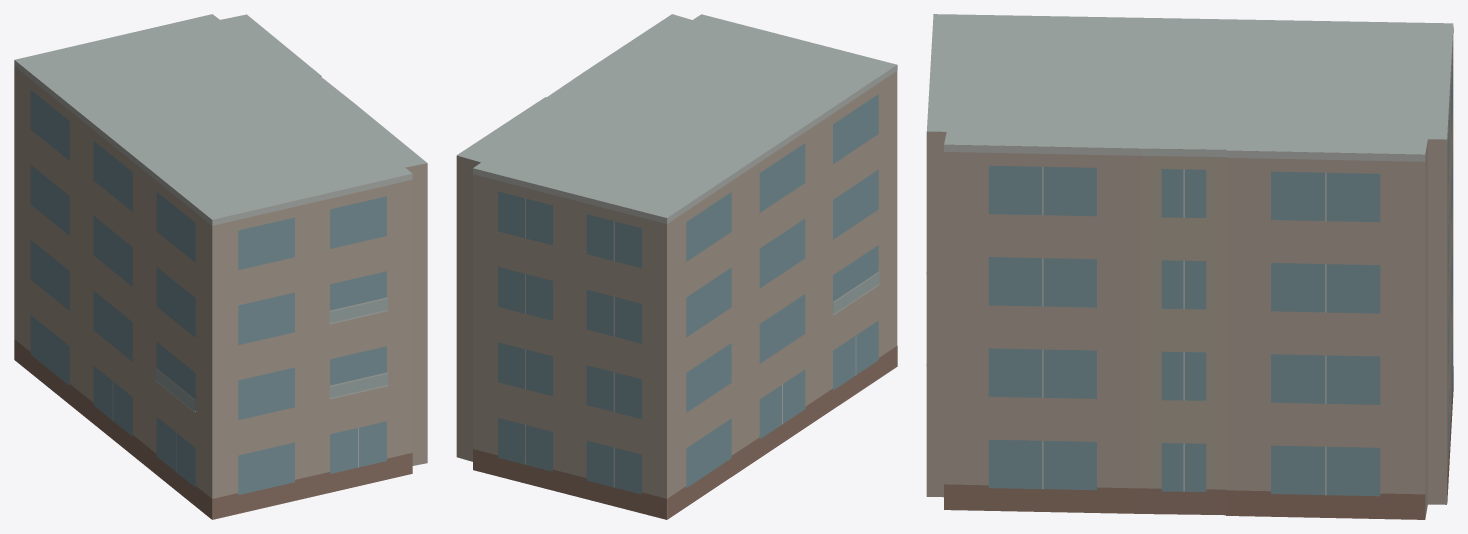
File: survey-upis-33039938.glb
3 renders of one model, left to right at view 1: azimuth 30°, elevation 25°; view 2: azimuth 150°, elevation 25°; view 3: azimuth 270°, elevation 25°, orthographic. The views are drawn at different scales.
Parts seen in each view (by area): view 1: survey-upis-33039938.tmp; view 2: survey-upis-33039938.tmp; view 3: survey-upis-33039938.tmp.
Part boxes in pixels (x1,y1,x2,y2): survey-upis-33039938.tmp: [14, 14, 427, 519]; survey-upis-33039938.tmp: [456, 14, 897, 519]; survey-upis-33039938.tmp: [926, 14, 1453, 519].
Bounding box in the file's own units: 10.07 × 12.2 × 15.96.
